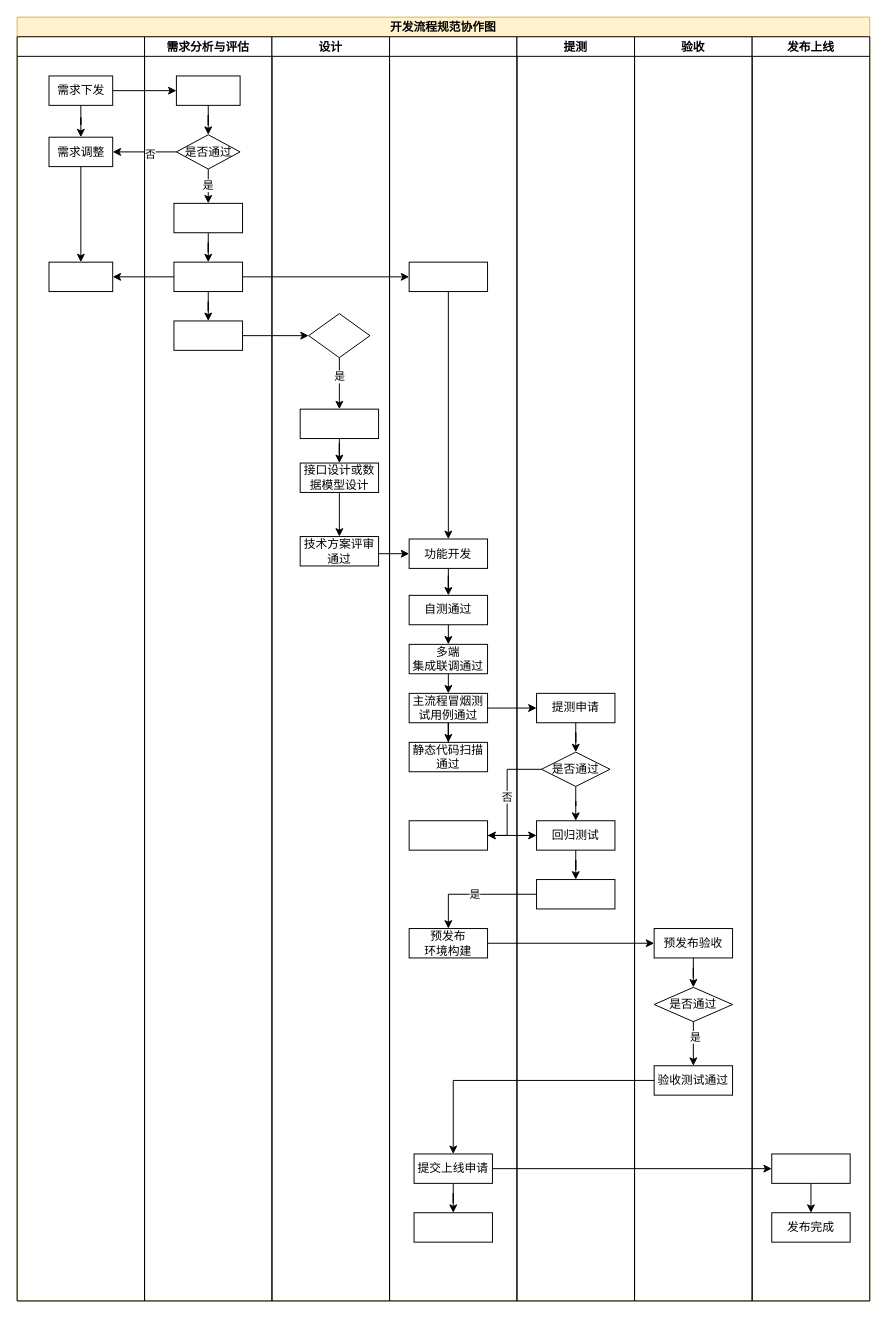
The diagram is 887 pixels wide and 1318 high, and some of its shapes have lost their labels. Here are the shapes that lost their labels. From the top down, the box of each, then its label:
(175, 75, 240, 105): 需求评审
(173, 202, 243, 233): 任务 分解评估
(48, 261, 113, 292): 计划跟踪
(173, 261, 243, 292): 迭代 发布计划
(173, 320, 243, 350): 计划启动
(308, 313, 370, 358): 是否 设计
(299, 408, 379, 439): 概要或详细 设计
(16, 36, 145, 1301): 产品
(389, 36, 517, 1301): 编码实现
(408, 820, 488, 850): 修复bug
(536, 879, 615, 909): 测试收盘通过
(771, 1153, 850, 1183): 运维部署发布
(413, 1212, 492, 1242): 跟踪线上实时发布日志
